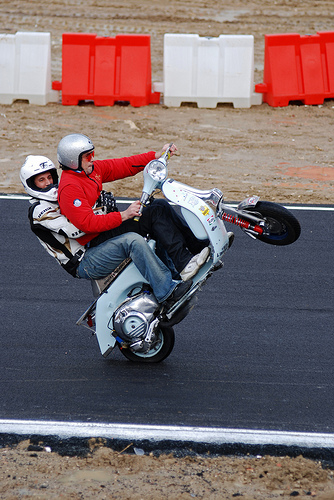helmet: (17, 159, 60, 196), (53, 139, 98, 172)
